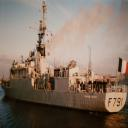Fragata: (2, 2, 128, 115)
